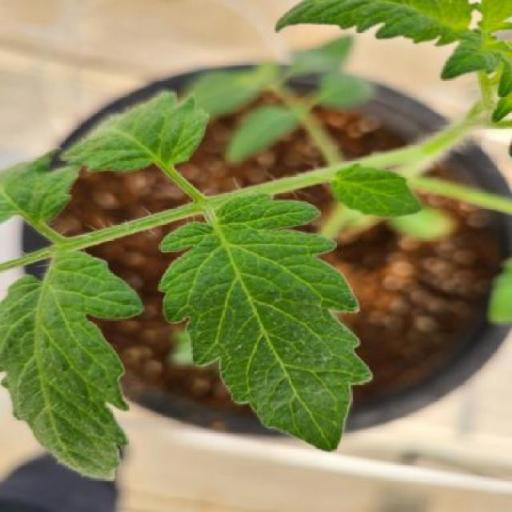Healthy: (160, 194, 373, 452), (0, 251, 144, 480), (332, 163, 422, 217)
